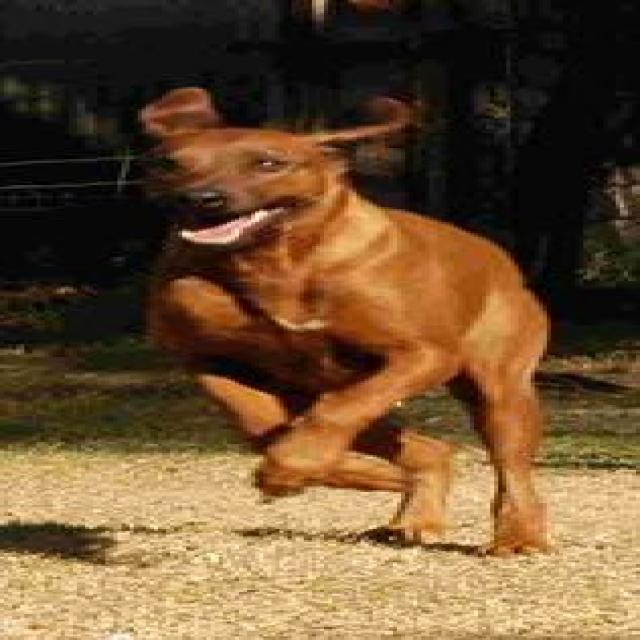rhodesian_ridgeback: (125, 85, 568, 561)
